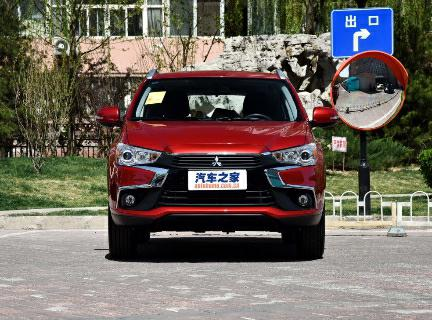三菱-劲炫ASX: (91, 67, 336, 260)
